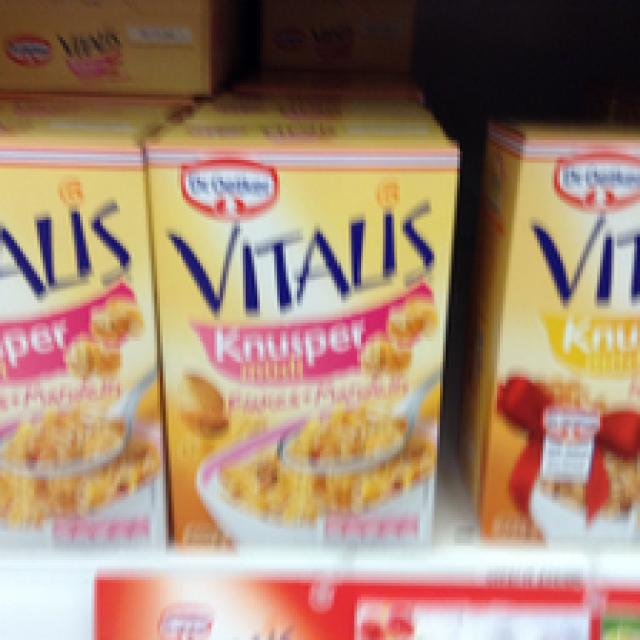groceries: (143, 123, 454, 546), (463, 117, 637, 537), (0, 108, 166, 543)
